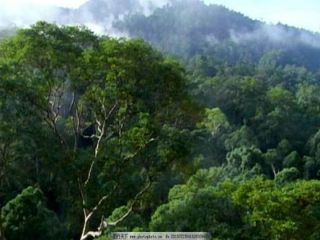smoke: (57, 7, 149, 50)
